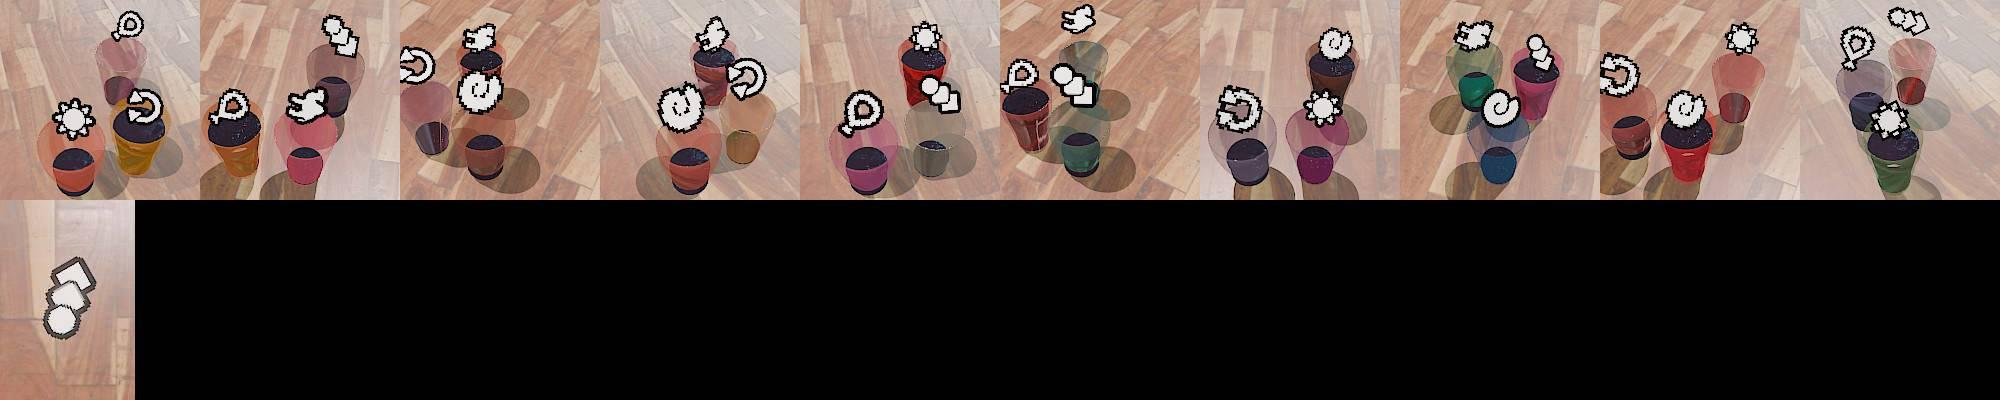icon: (42, 254, 98, 340), (656, 83, 708, 134), (1214, 84, 1263, 134), (1051, 61, 1099, 108), (455, 69, 504, 116), (838, 89, 885, 136), (51, 96, 97, 141), (1598, 50, 1642, 97), (320, 13, 361, 59), (727, 56, 768, 102), (1663, 88, 1708, 129), (1839, 25, 1876, 74), (918, 73, 962, 113), (286, 85, 330, 125), (1480, 88, 1522, 129), (1867, 101, 1911, 140), (122, 85, 163, 126), (209, 88, 253, 126), (1302, 88, 1344, 126), (398, 45, 436, 87), (1001, 56, 1041, 94), (1453, 18, 1495, 52), (694, 15, 730, 54), (1316, 27, 1355, 62), (1523, 32, 1557, 70), (906, 19, 943, 54), (1888, 6, 1930, 36), (1724, 20, 1760, 55), (460, 22, 499, 54), (1061, 4, 1096, 36), (112, 10, 145, 41)
